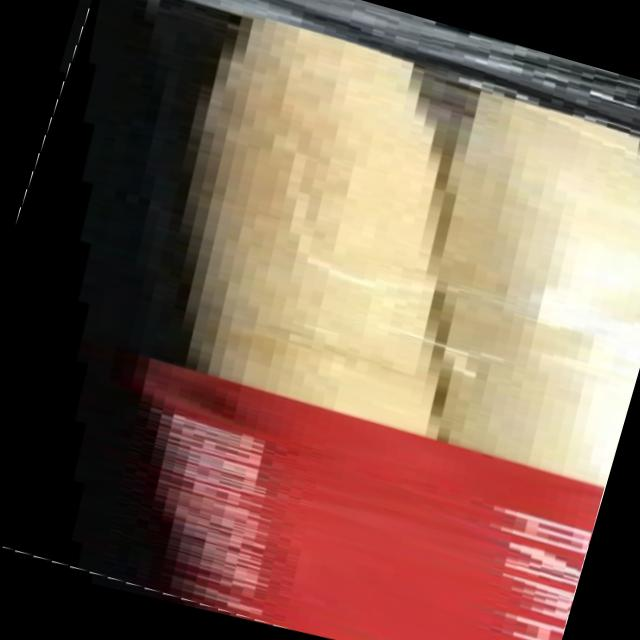others: (69, 0, 640, 640)
